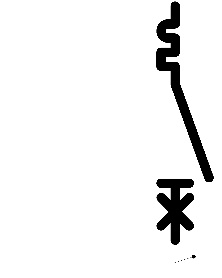interruptor_termomagnetico: (155, 0, 215, 246)
